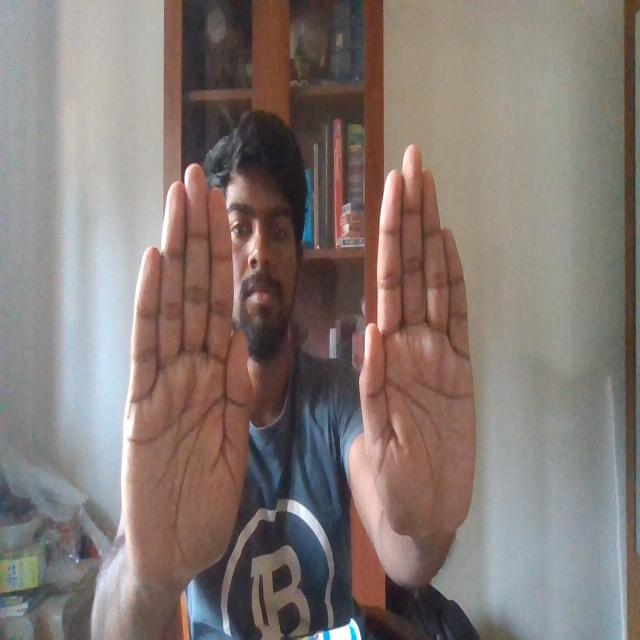ThankYou: (115, 135, 483, 563)
